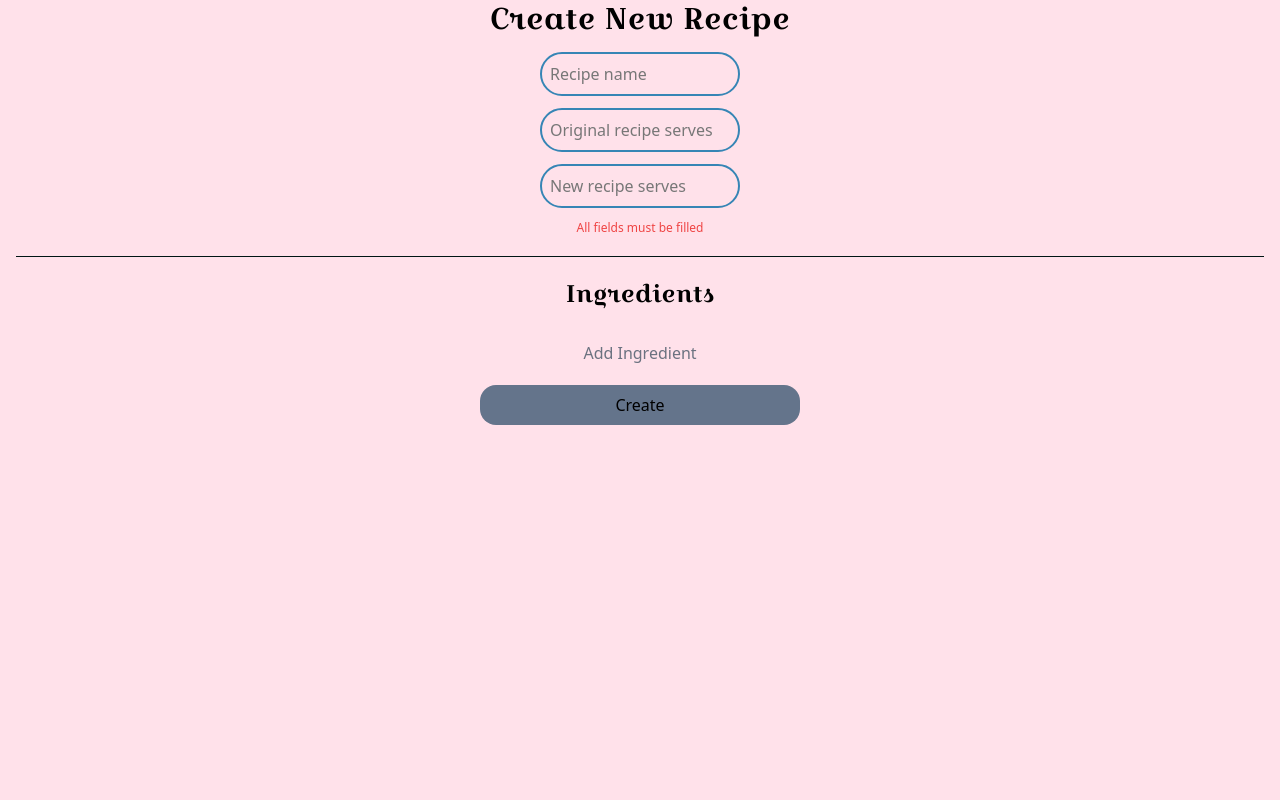
Test case: New Recipe › AddIngredientsModal › adding Flour 200g should be showing it in the ingredients list
Type "1" into the field with placeholder "Recipe name" at (640, 74), box [540, 52, 740, 96]
Type "1" into the field with placeholder "Original recipe serves" at (640, 130), box [540, 108, 740, 152]
Type "1" into the field with placeholder "New recipe serves" at (640, 186), box [540, 164, 740, 208]
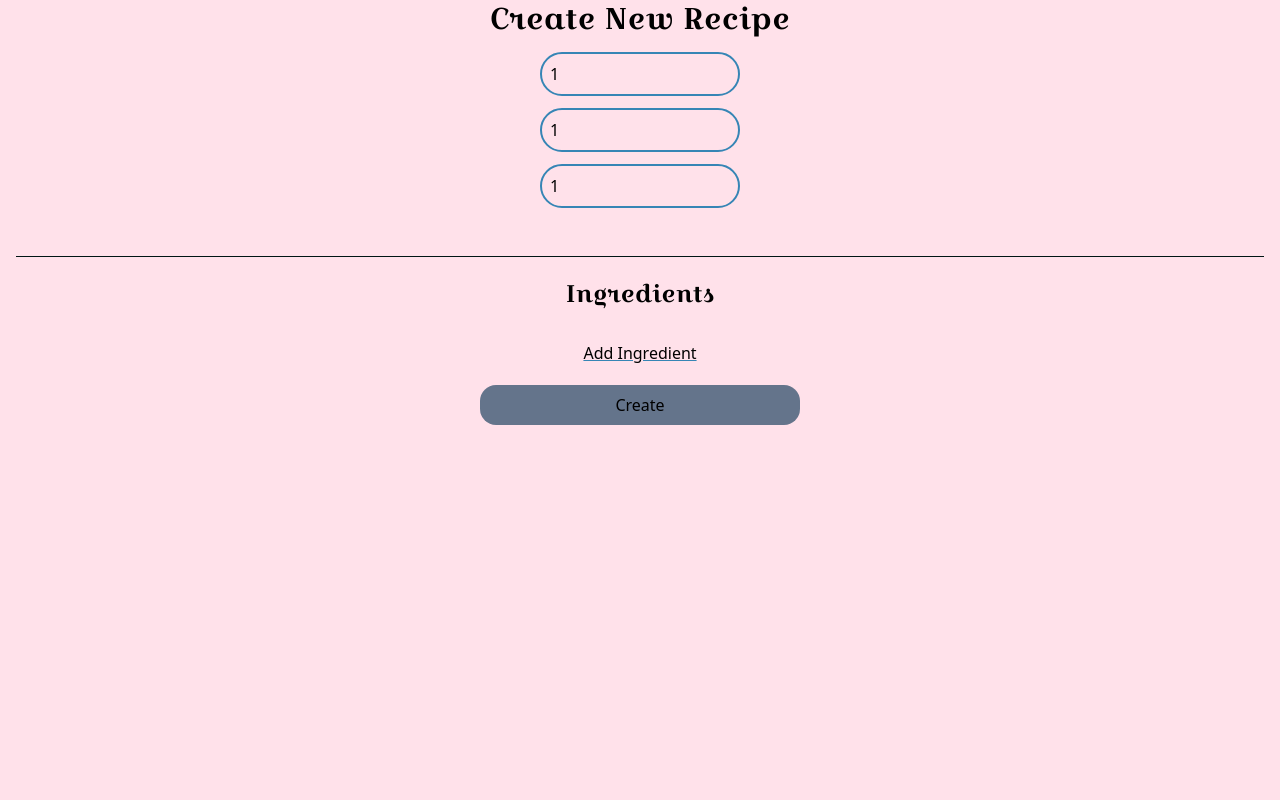
Click the button "Add Ingredient" at (640, 353), box [583, 341, 697, 365]
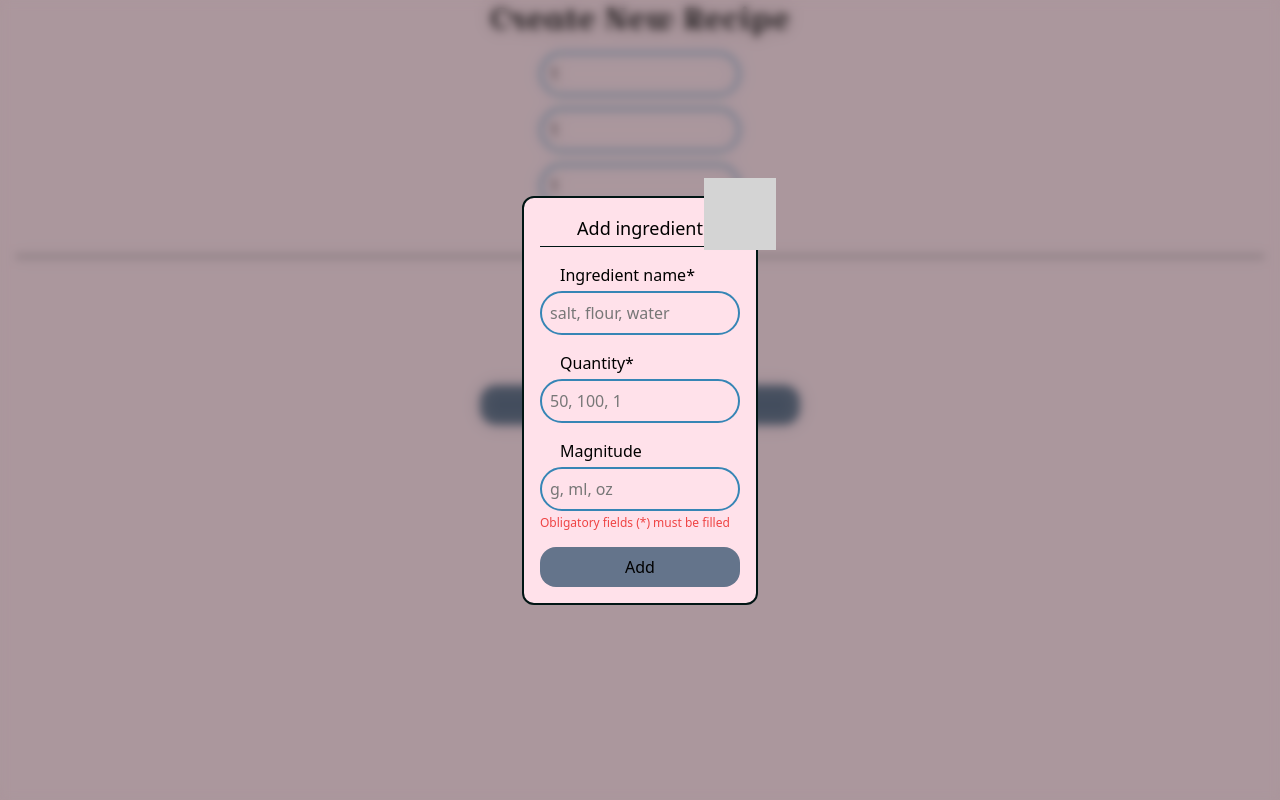
Type "Flour" into the field labelled "Ingredient name*" at (640, 312), box [540, 290, 740, 334]
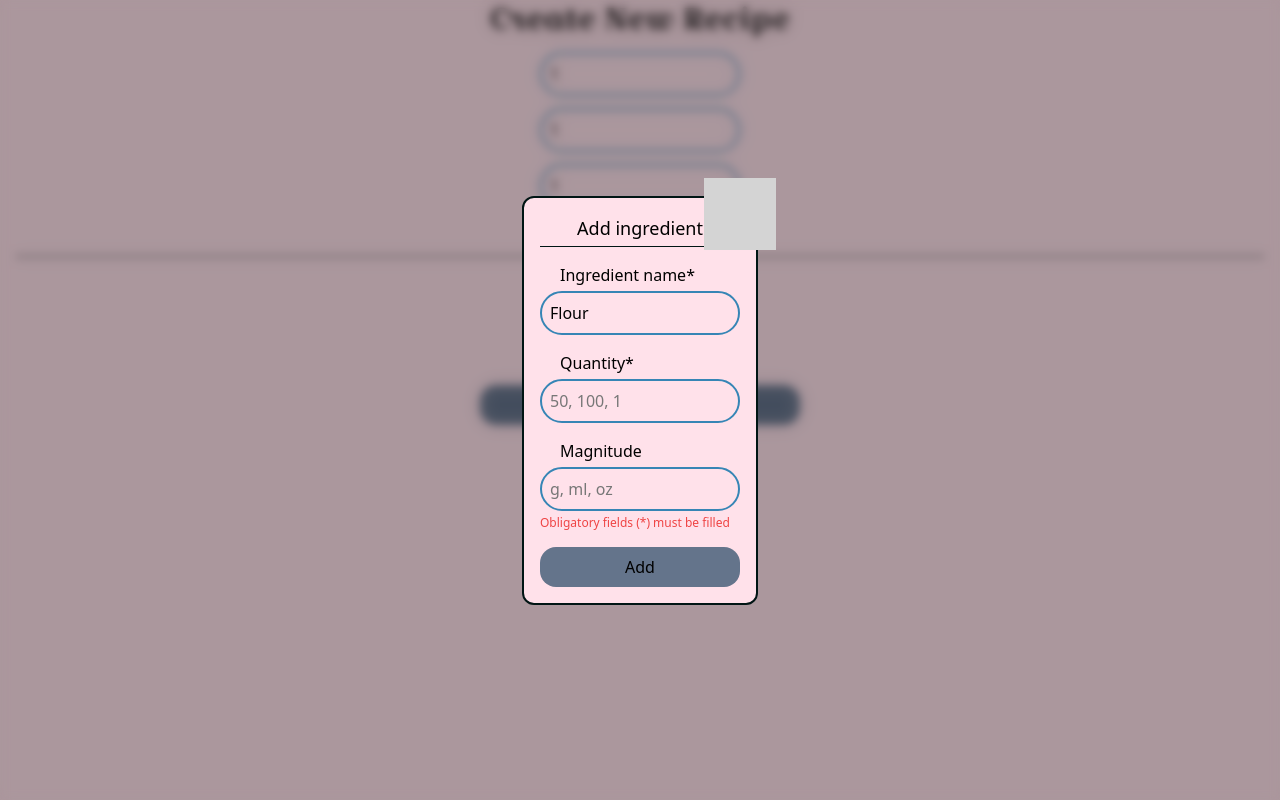
Type "200" into the field labelled "Quantity*" at (640, 400), box [540, 378, 740, 422]
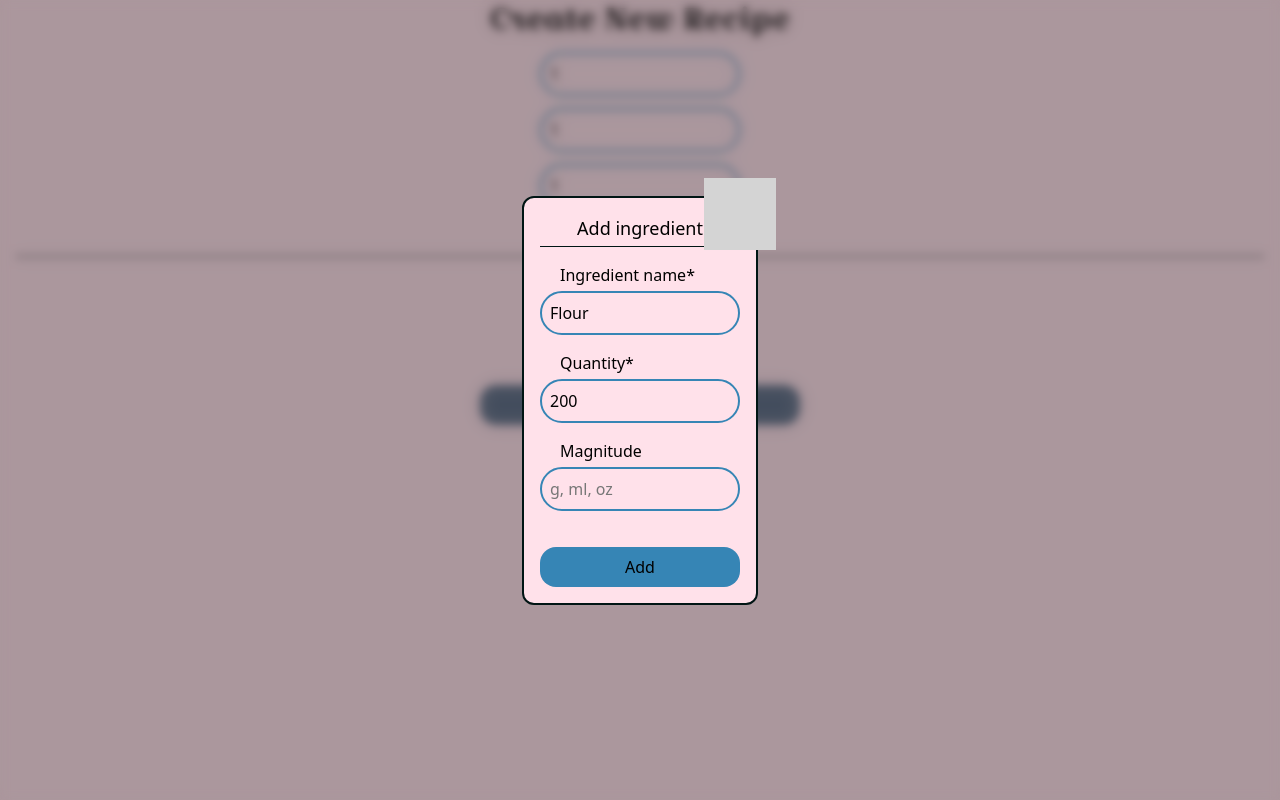
Type "g" into the field labelled "Magnitude" at (640, 488), box [540, 466, 740, 510]
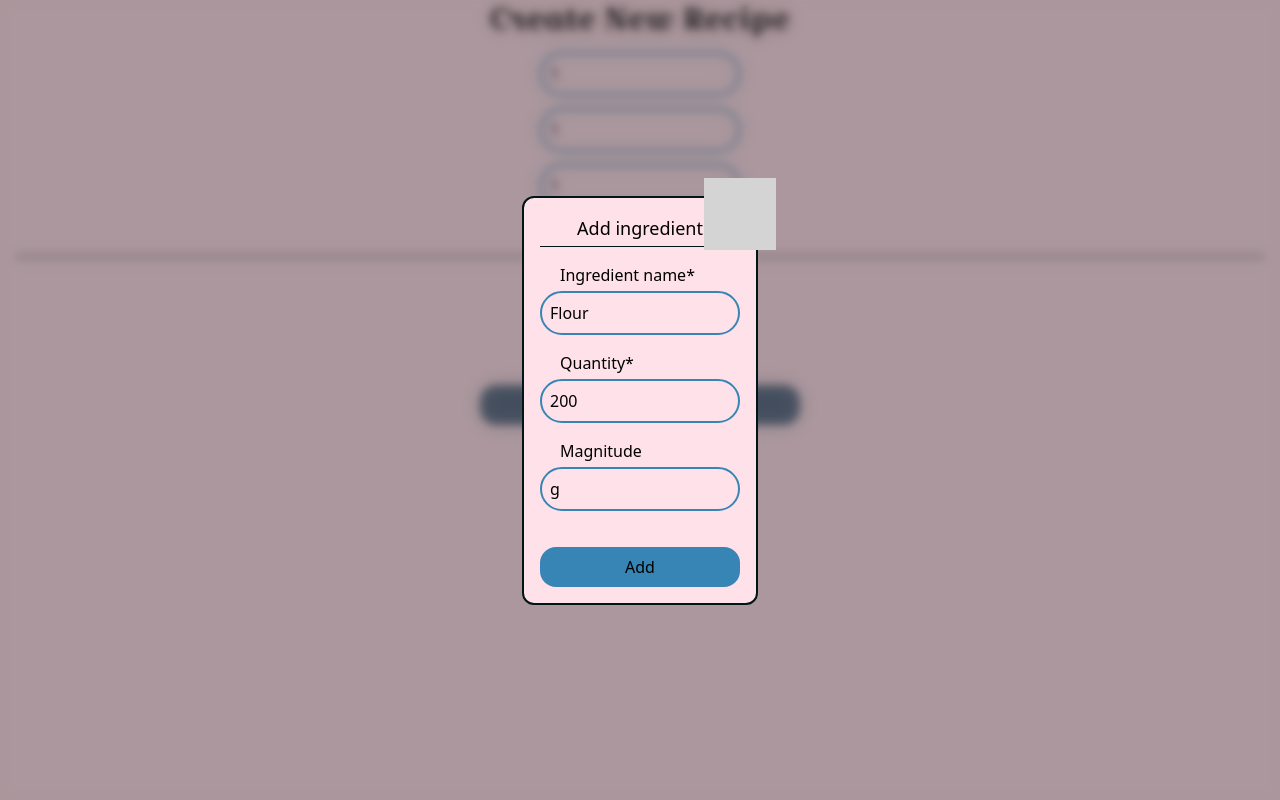
Click the button "Add" at (640, 566), box [540, 546, 740, 586]
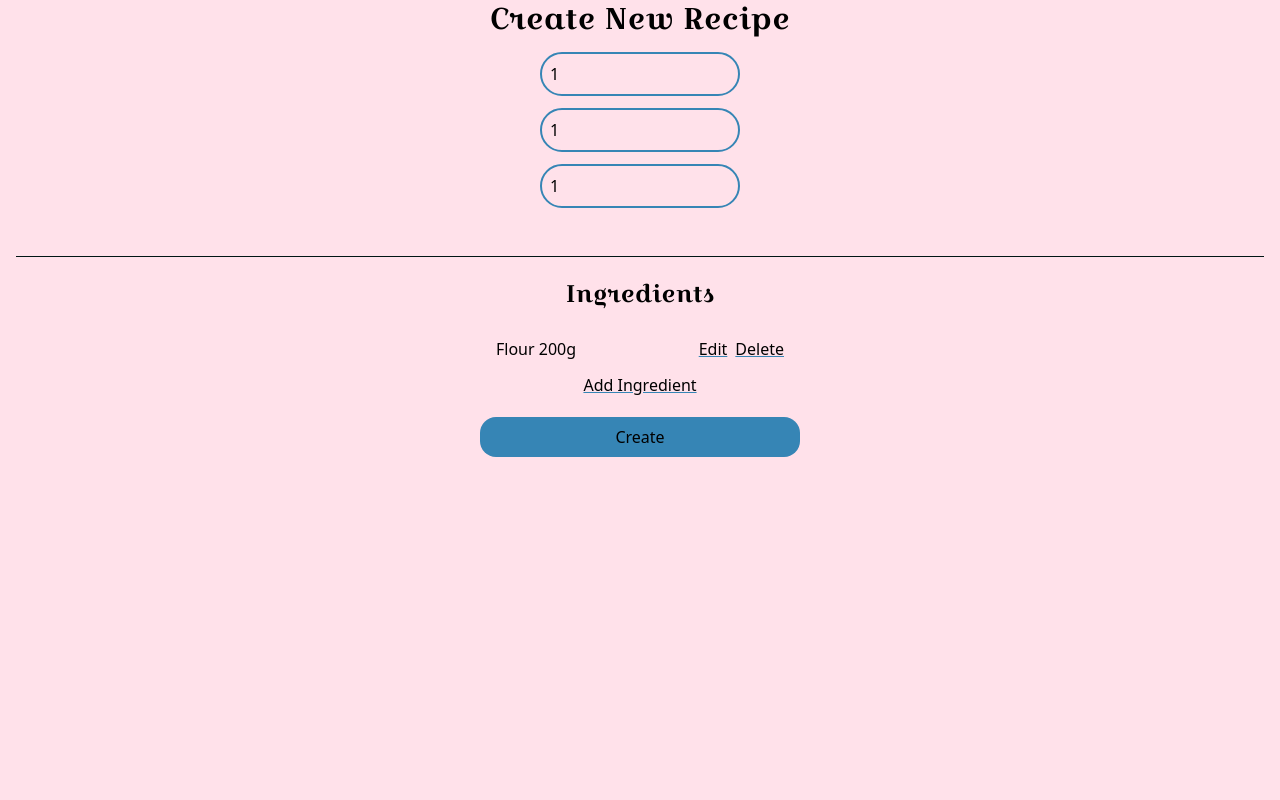
Now the label labelled "Ingredient name" is gone
Now the label labelled "Quantity" is gone
Now the label labelled "Magnitude" is gone
